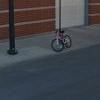Bicycle: (45, 22, 83, 55)
